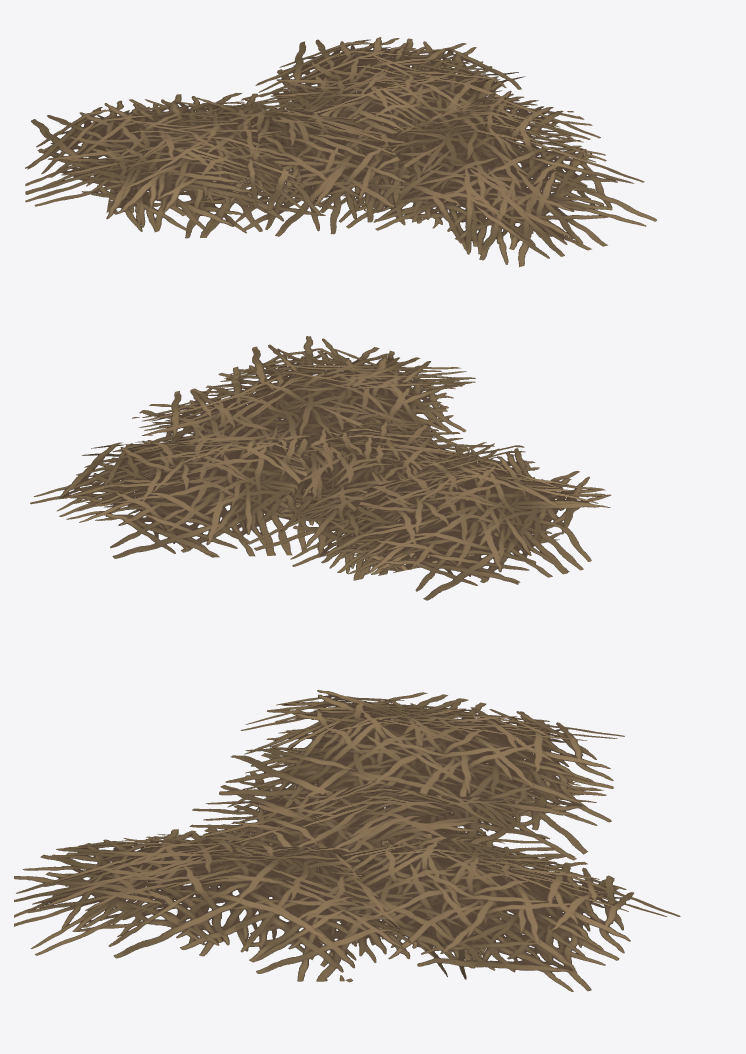
Rendered from hayPatch5.fbx.
The picture shows the model from 3 angles, top to bottom: view 1: azimuth 30°, elevation 25°; view 2: azimuth 150°, elevation 25°; view 3: azimuth 270°, elevation 25°; orthographic projection. The views are drawn at different scales.
Parts seen in each view (by area): view 1: hayPatch5; view 2: hayPatch5; view 3: hayPatch5.
Part boxes in pixels (<box>): hayPatch5: <box>25,37,656,266</box>; hayPatch5: <box>30,336,611,600</box>; hayPatch5: <box>14,690,680,991</box>.
Bounding box in the file's own units: 1.49 × 0.117 × 1.2.
